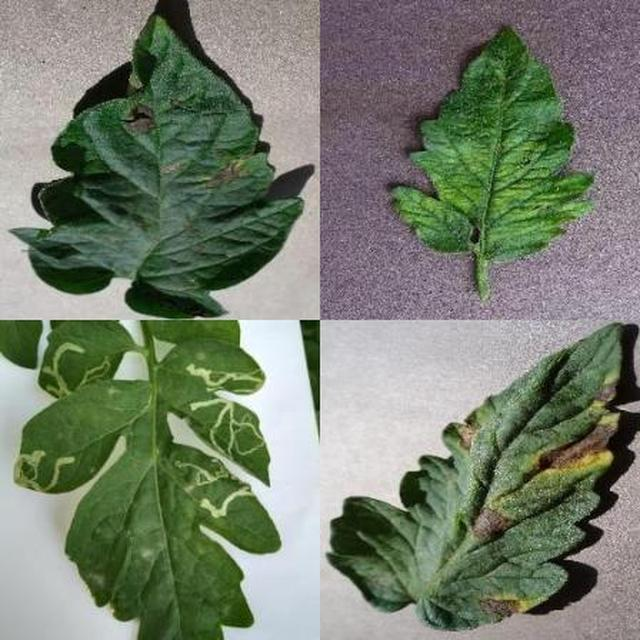Early Blight Leaf: (124, 112, 640, 640)
